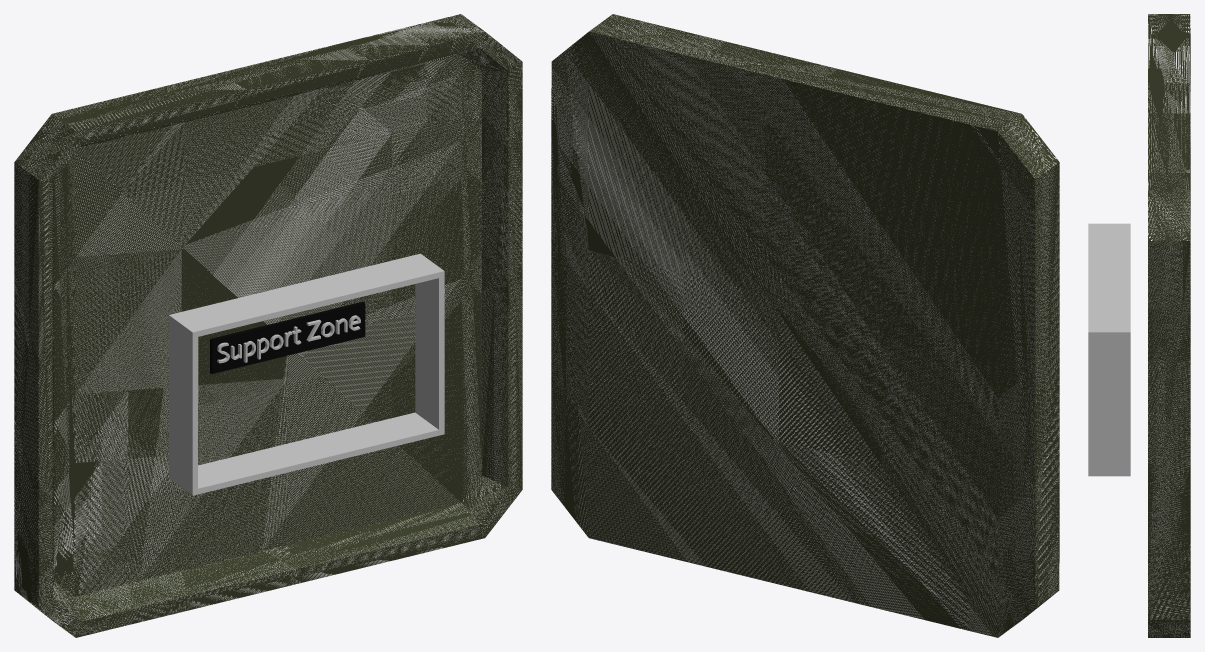
The model's file is CM_-_Support_Zone.obj.
The picture shows the model from 3 angles, left to right: view 1: azimuth 30°, elevation 25°; view 2: azimuth 150°, elevation 25°; view 3: azimuth 270°, elevation 25°; orthographic projection. The views are drawn at different scales.
Parts seen in each view (by area): view 1: Button.001_ID13, Button_ID3, SM_CM_-_Support_Zone_path1763-2.099; view 2: Button_ID3; view 3: Button_ID3, SM_CM_-_Support_Zone_path1763-2.099.
Part boxes in pixels (x1,y1,x2,y2): Button.001_ID13: (52,48,508,621); Button_ID3: (14,14,522,637); SM_CM_-_Support_Zone_path1763-2.099: (168,253,444,495); Button_ID3: (551,14,1059,637); Button_ID3: (1148,14,1190,637); SM_CM_-_Support_Zone_path1763-2.099: (1088,223,1130,476).
Size of the model in its own units: 1 by 1 by 0.207.
